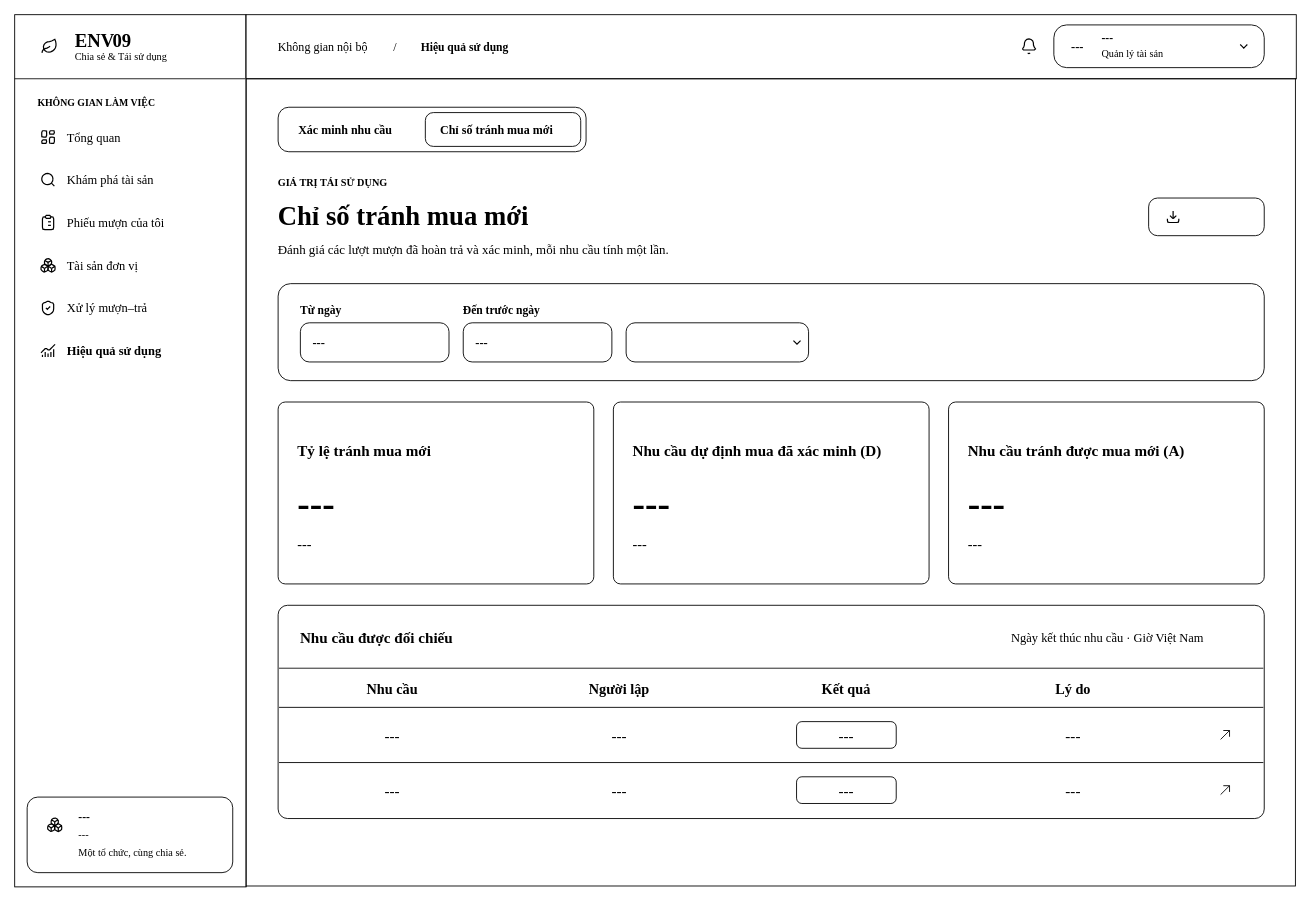
Some shapes in this 1311 by 902 pixel diagram are drawn without their labels. Each missing label, with the centre of its shape:
"Mọi loại tài sản" belongs at pixel 717 342.
"Xuất CSV" belongs at pixel 1206 216.
